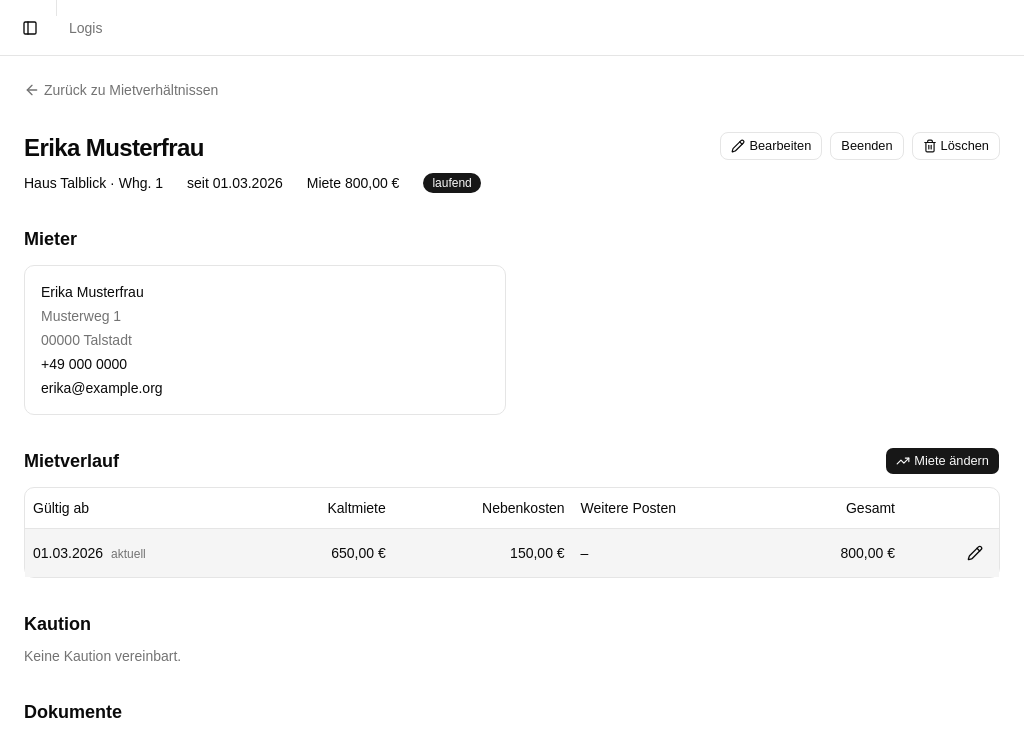
Test case: Tenancy page › adds a history row with „Miete ändern“ and shows the new current rent
Step 1. Click the button "Miete ändern" → (943, 461), box [885,447,1000,475]
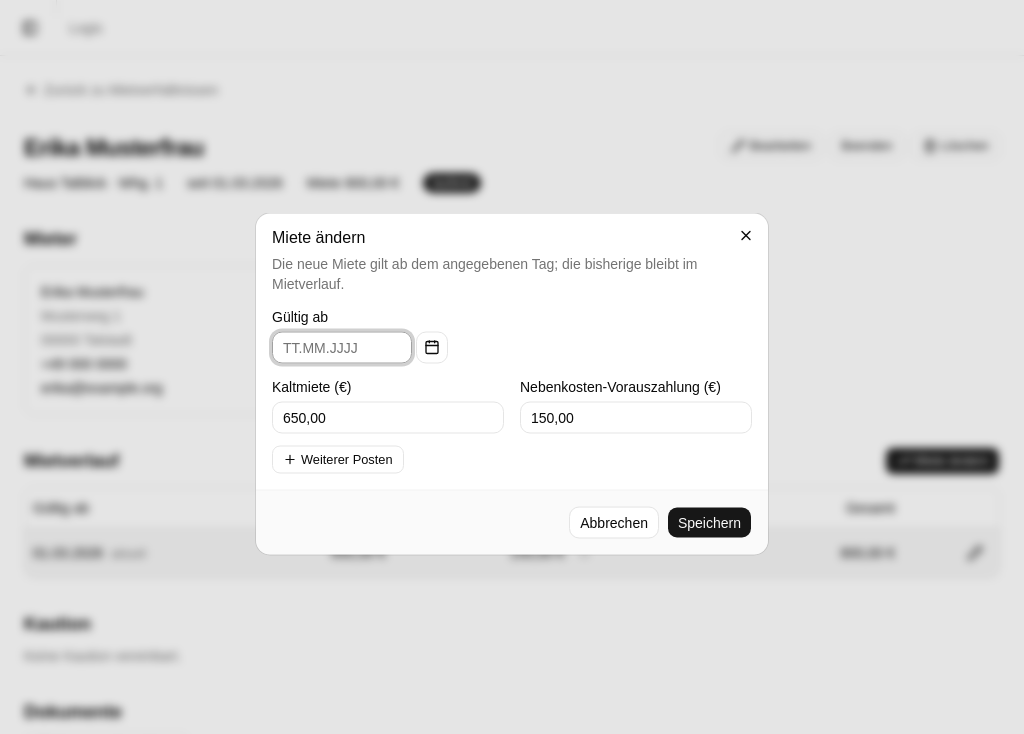
Expected: the field labelled "Kaltmiete (€)" holds "650,00", [272,402,504,434]
Expected: the field labelled "Nebenkosten-Vorauszahlung (€)" holds "150,00", [520,402,752,434]
Step 2. Type "01.03.2027" into the field labelled "Gültig ab" → (342, 348), box [272,332,412,364]
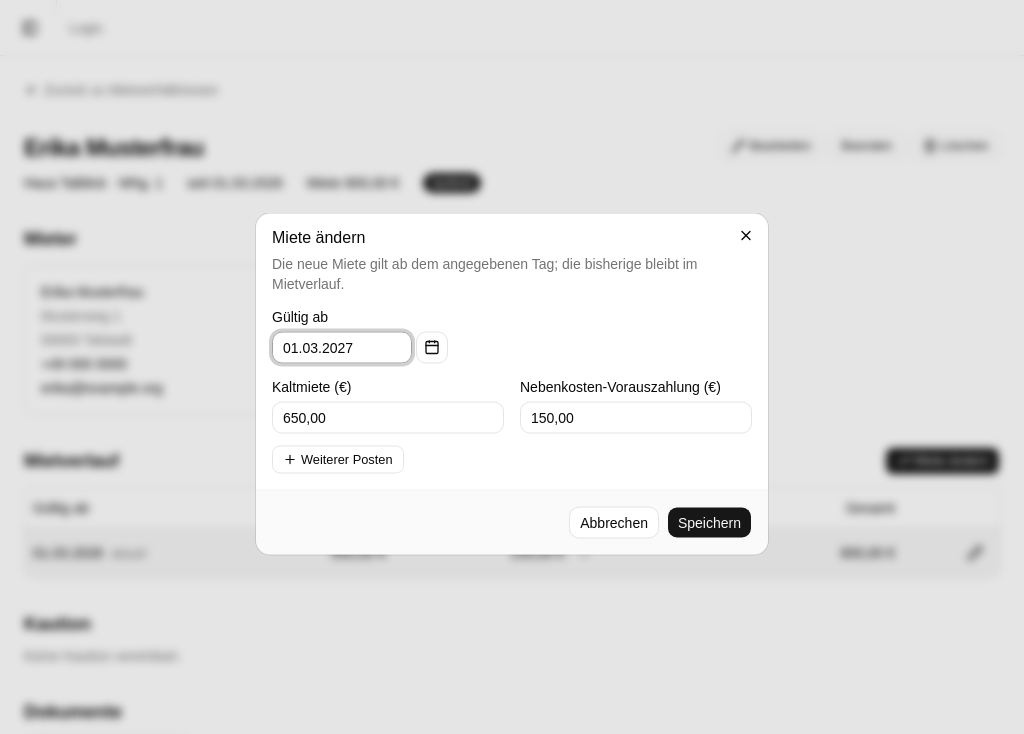
Step 3. Replace the text in the field labelled "Kaltmiete (€)" with "680" → (388, 418), box [272,402,504,434]
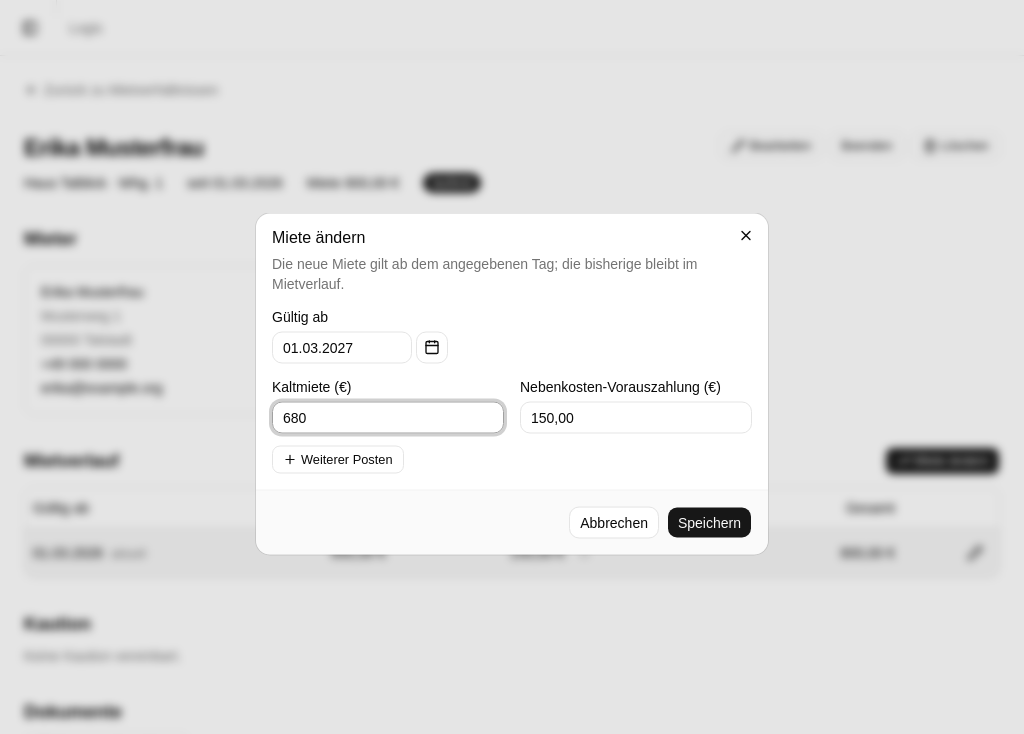
Step 4. Click the button "Speichern" → (710, 522), box [667,506,752,538]
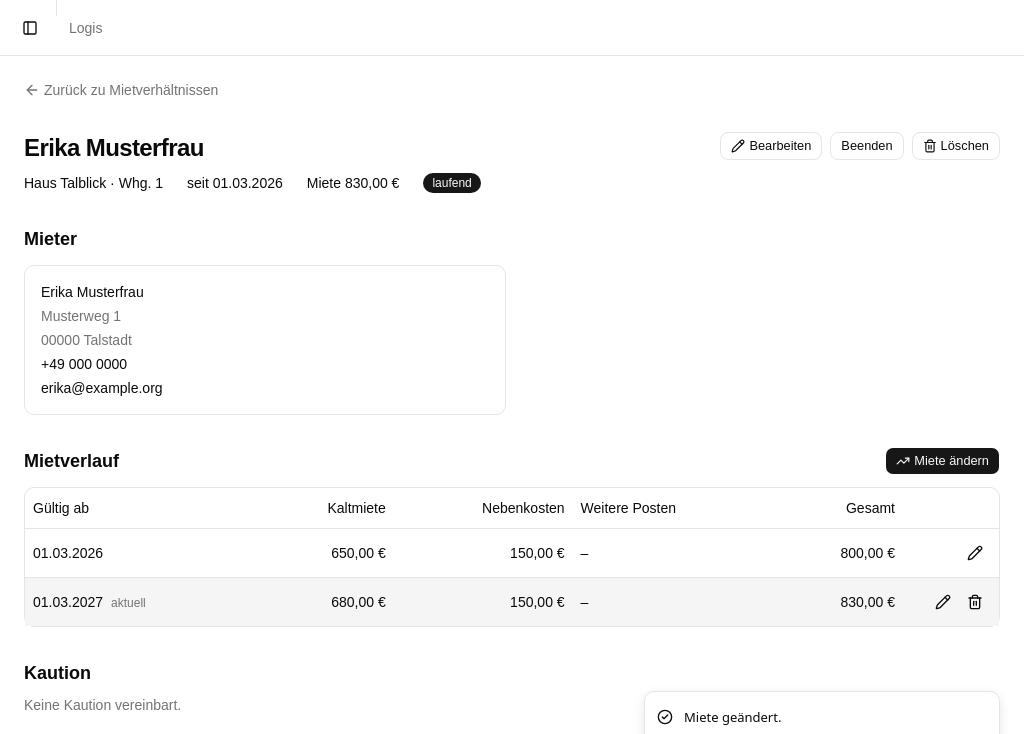
Expected: the number of rows is 3, [25,488,999,528]; [25,528,999,577]; [25,577,999,626]
Expected: the table named "Mietverlauf" shows "01.03.2027", [33,594,103,610]
Expected: the element named "Wichtige Angaben" shows "Miete 830,00 €", [24,172,481,193]
